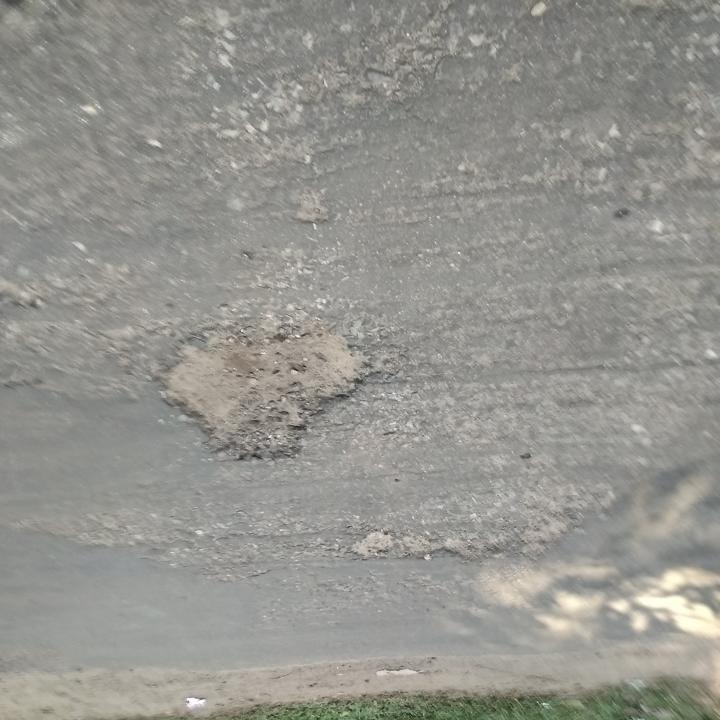pothole: (156, 315, 390, 465), (341, 529, 515, 565)
